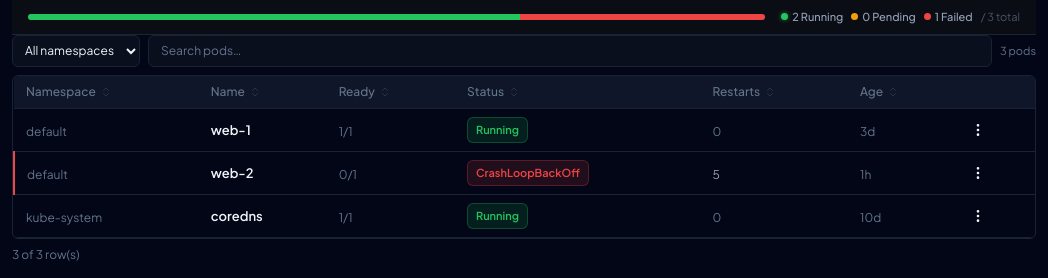
Test case: PodTable › filters by search text
Type "coredns" into the field with placeholder "Search pods…" at coordinates (570, 51), box x1=148 y1=35 x2=992 y2=67
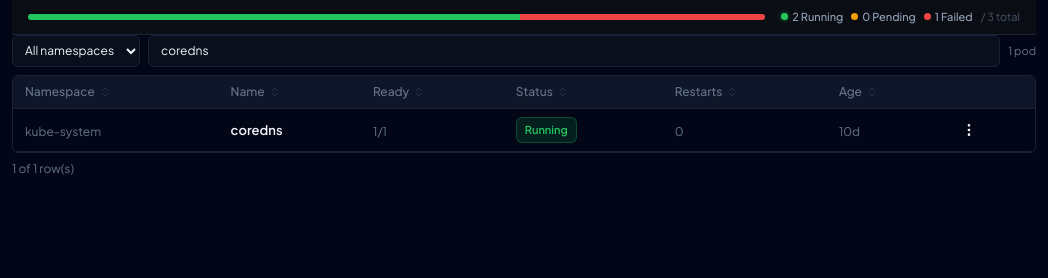
expect the text "coredns" is shown: met, box x1=230 y1=122 x2=282 y2=138
expect the button "web-1" is gone: met
